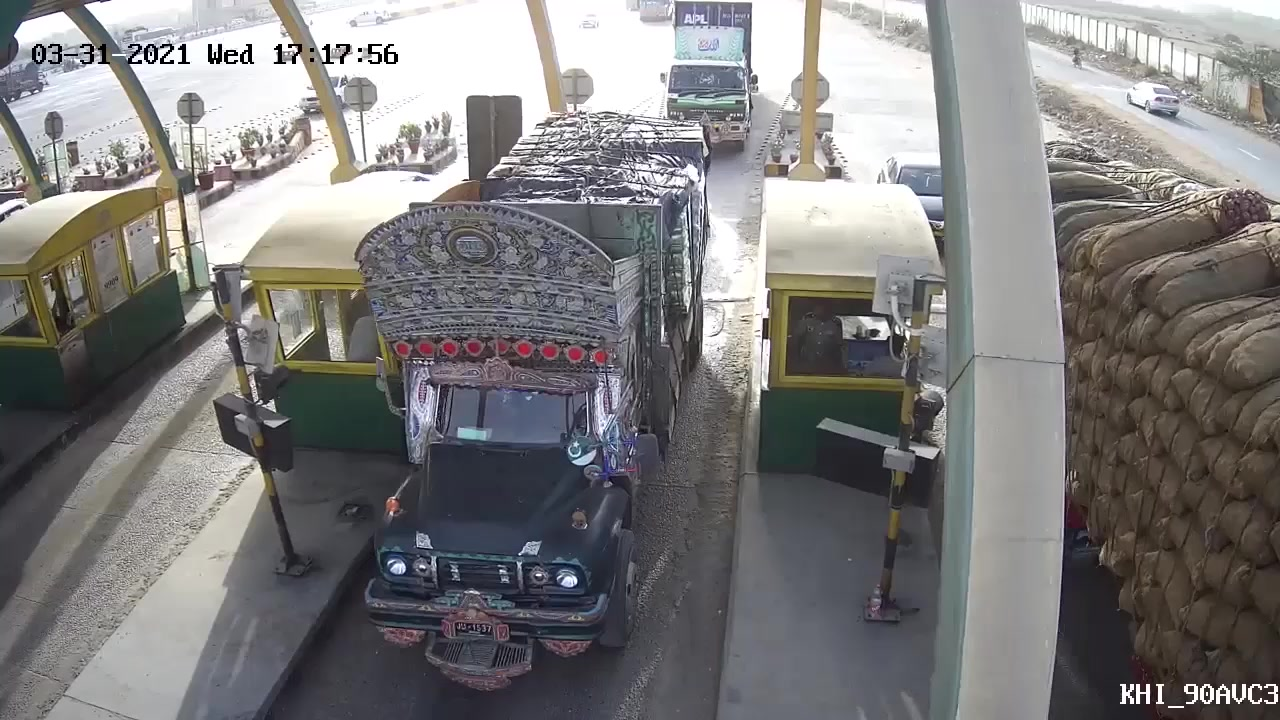F4: (335, 122, 717, 691)
